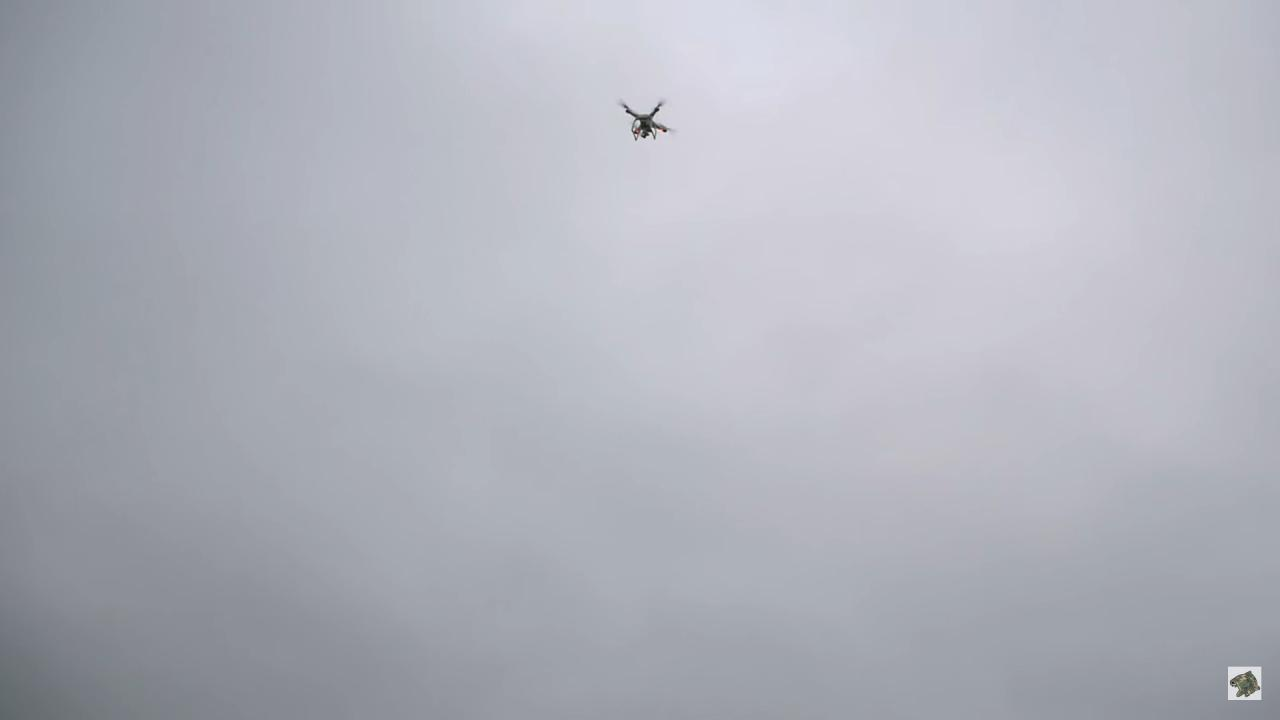Drone: (611, 88, 686, 154)
